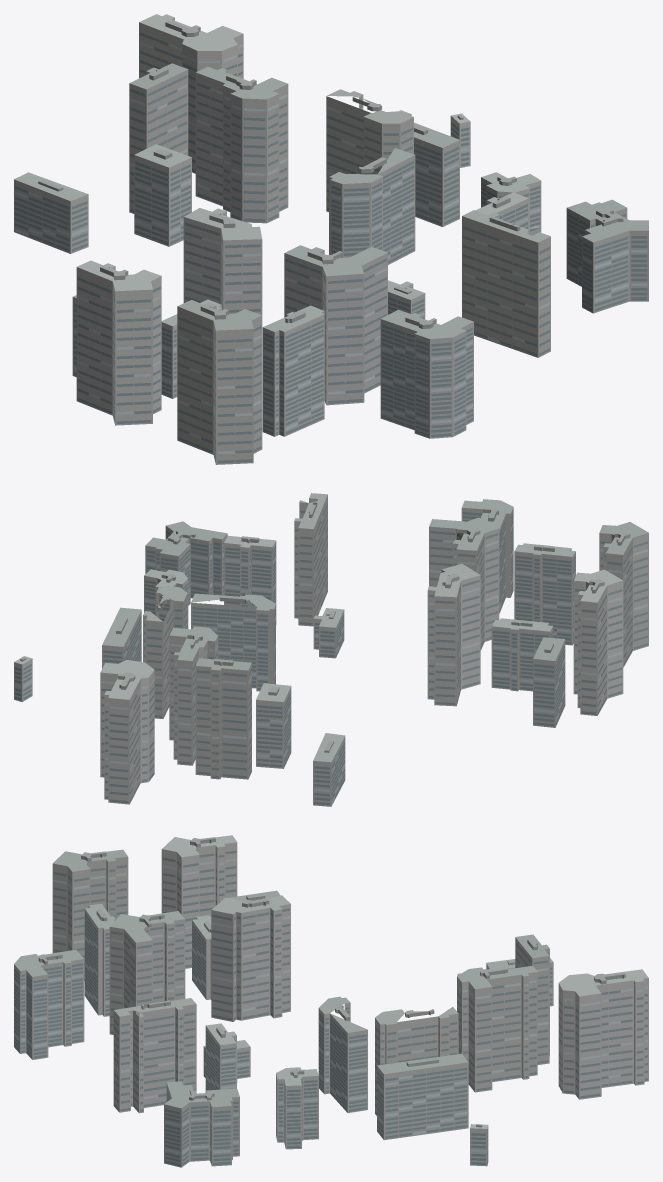
Rendered from apt-a15370103.glb.
3 renders of one model, top to bottom at view 1: azimuth 30°, elevation 25°; view 2: azimuth 150°, elevation 25°; view 3: azimuth 270°, elevation 25°, orthographic. The views are drawn at different scales.
Visible parts, largest first — view 1: apt-a15370103; view 2: apt-a15370103; view 3: apt-a15370103.
Boxes of the visible parts, <box> form: apt-a15370103: <box>14,14,648,464</box>; apt-a15370103: <box>14,493,648,806</box>; apt-a15370103: <box>14,835,648,1167</box>.
Bounding box in the file's own units: 328 × 80 × 399.
